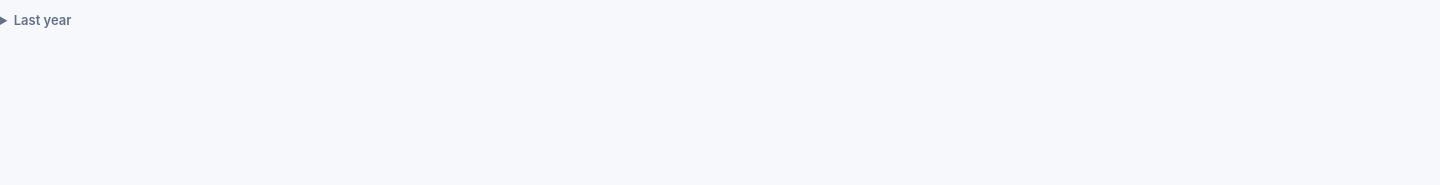
Scenario: OverviewCards lazy collapsed sections › computes a collapsed section's cards exactly once, on first open
Click the heading "Last year": (43, 20) [14,12,72,28]
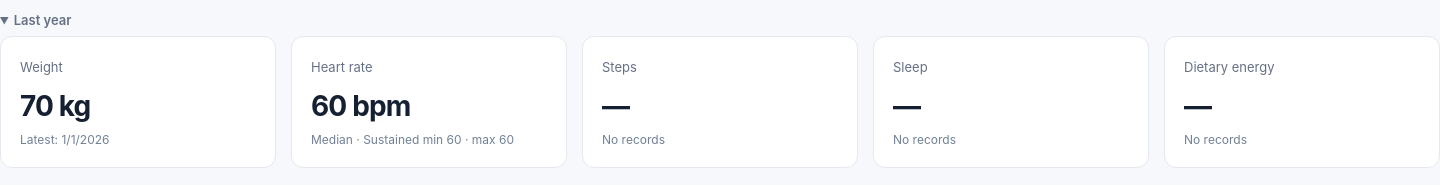
Expected: the text "Weight" is shown, [20,59,63,75]
